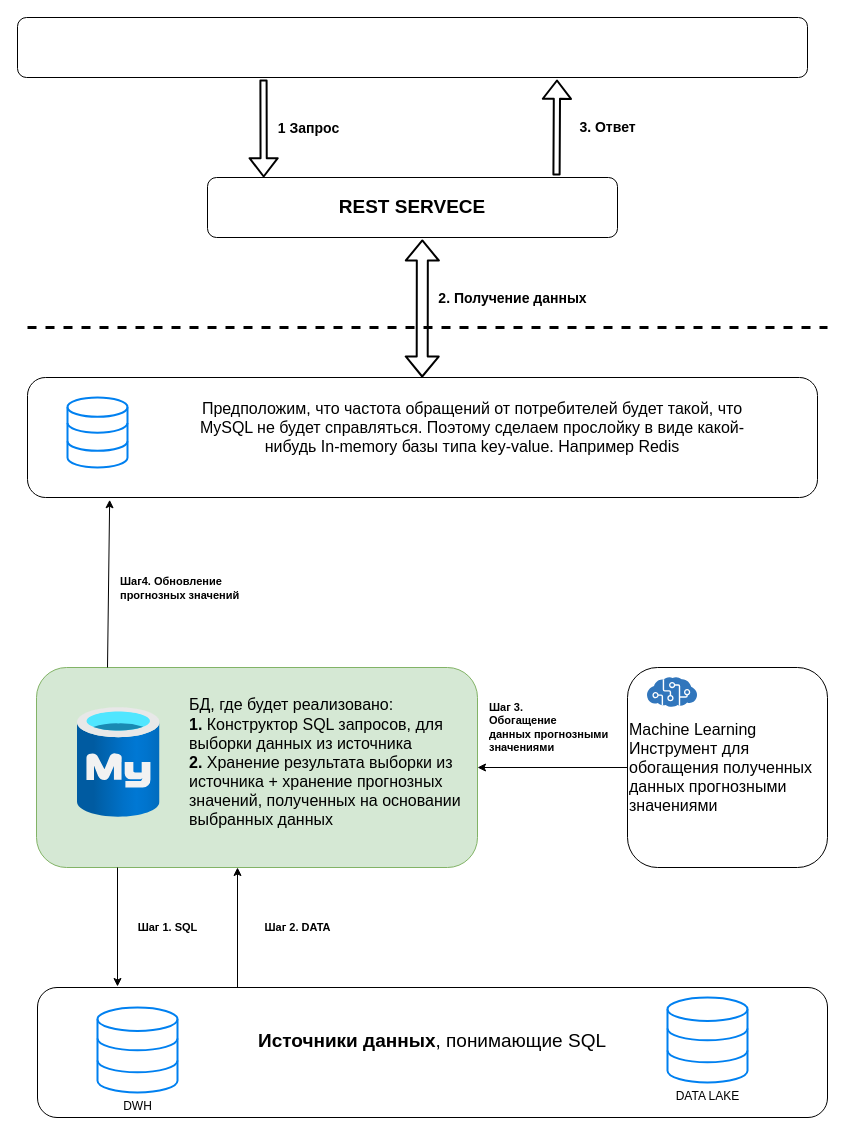
The diagram is 847 pixels wide and 1135 high, and some of its shapes have lost their labels. The shapes that lost their labels are listed below. From the top down, each one's box as (x1, y1, x2, y2) in pixels, then its label:
(16, 16, 808, 78): Потребители
(66, 396, 128, 468): DB Key-value
